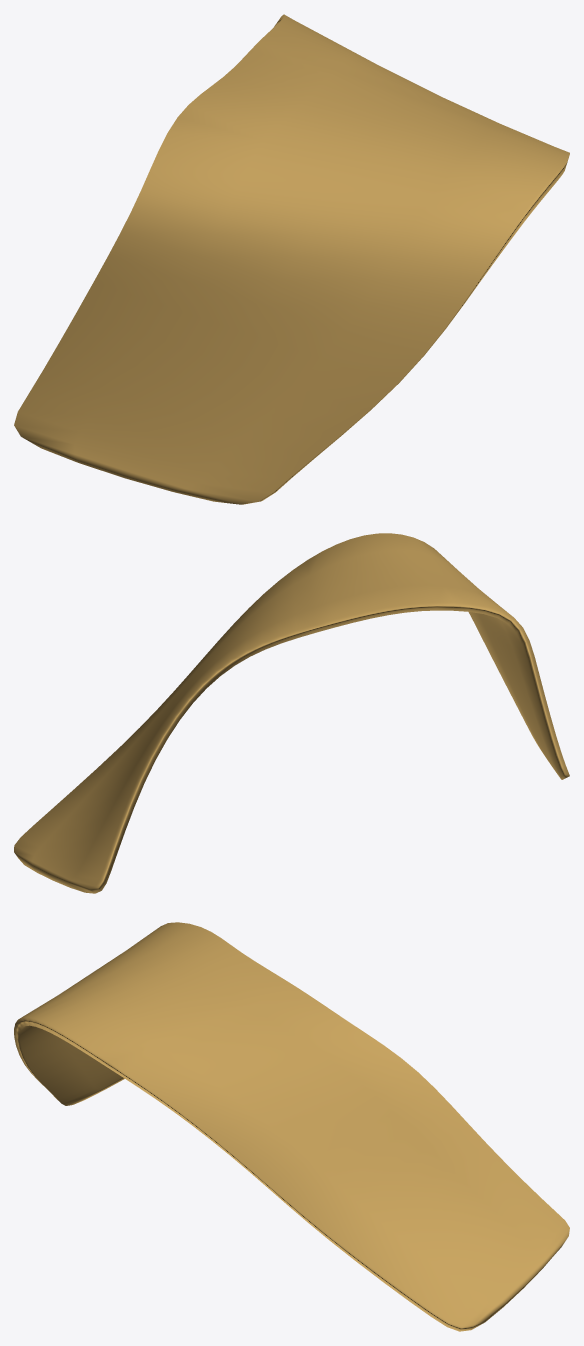
3 renders of one model, top to bottom at view 1: azimuth 30°, elevation 25°; view 2: azimuth 150°, elevation 25°; view 3: azimuth 270°, elevation 25°, orthographic. The views are drawn at different scales.
Visible parts, largest first — view 1: 左侧腘腓韧带; view 2: 左侧腘腓韧带; view 3: 左侧腘腓韧带.
Boxes of the visible parts, left/top/right/bottom form: 左侧腘腓韧带: left=14, top=14, right=569, bottom=504; 左侧腘腓韧带: left=14, top=533, right=569, bottom=893; 左侧腘腓韧带: left=14, top=922, right=569, bottom=1331.
Bounding box in the file's own units: 0.0404 × 0.0218 × 0.0442.
